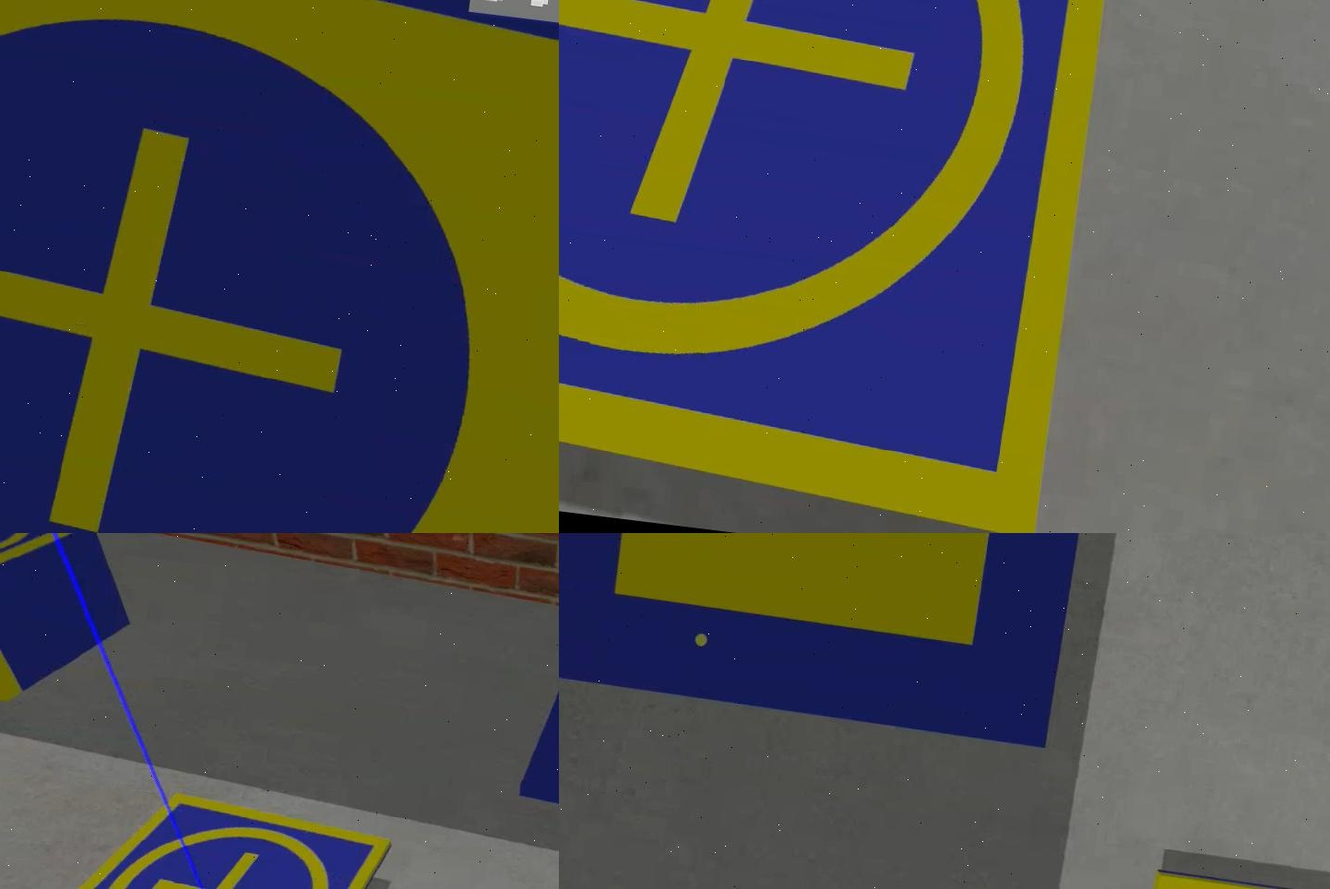large_base: (0, 1, 558, 534), (558, 534, 1126, 751)
small_base: (558, 1, 1128, 534), (0, 772, 394, 889), (0, 534, 97, 594), (1141, 868, 1328, 889)
